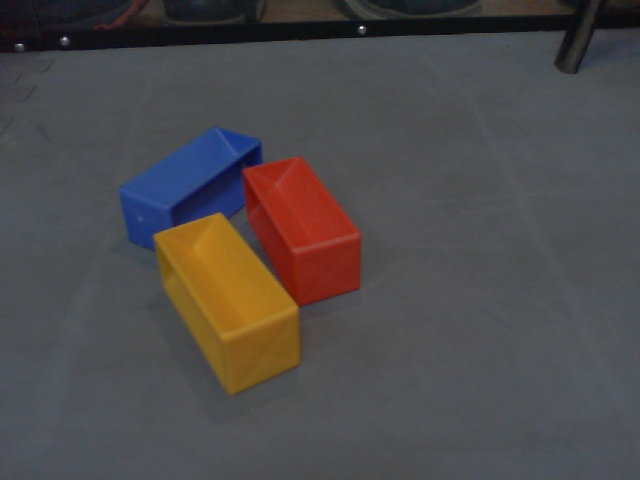BlueSample: (115, 126, 265, 255)
RedSample: (239, 154, 362, 304)
YellowSample: (152, 212, 304, 395)
